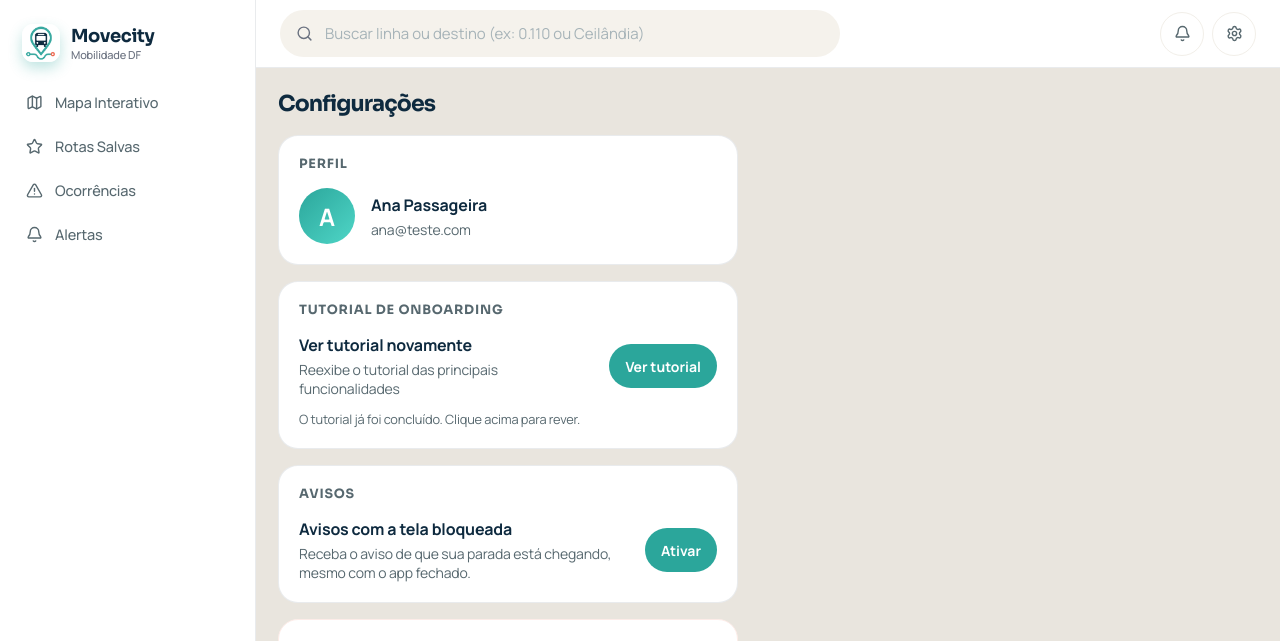
Test: erros › erro inesperado vira texto genérico, sem vazar a mensagem técnica
The image size is (1280, 641).
Expected: the heading "Avisos com a tela bloqueada" is shown, [299,518,512,540]
Click the button "Ativar" at (681, 550), box [645,528,717,572]
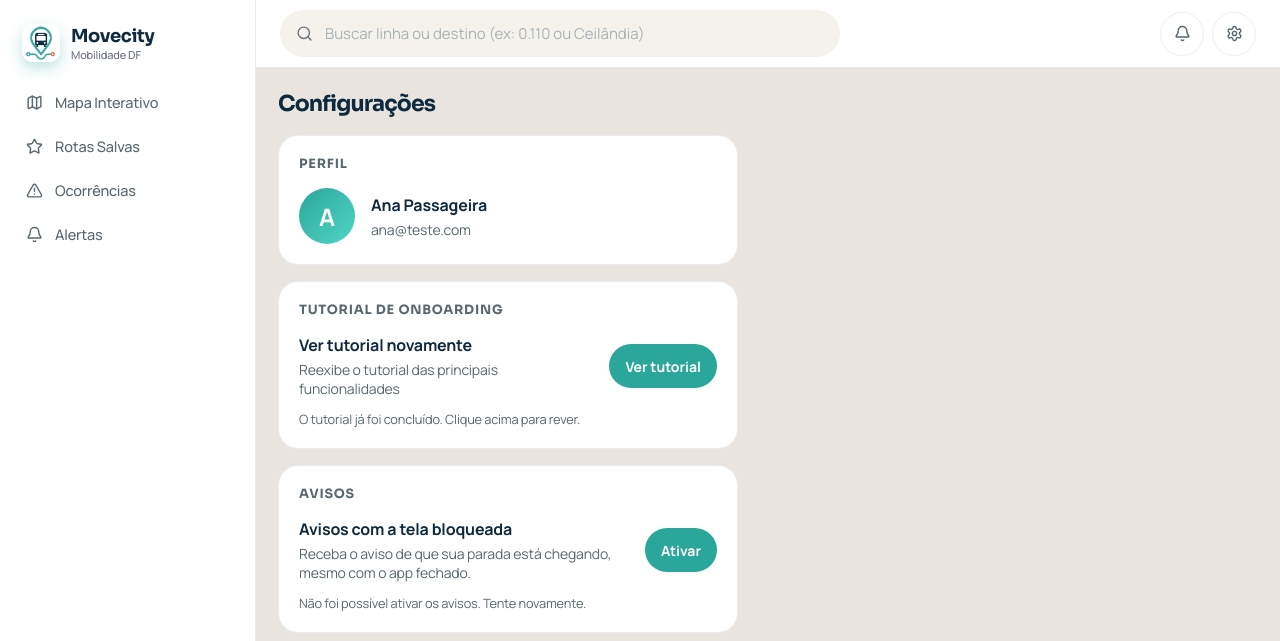
Expected: the message does not show "Cannot read", [299,594,586,612]
Expected: the message shows "Não foi possível ativar os avisos", [299,594,586,612]
